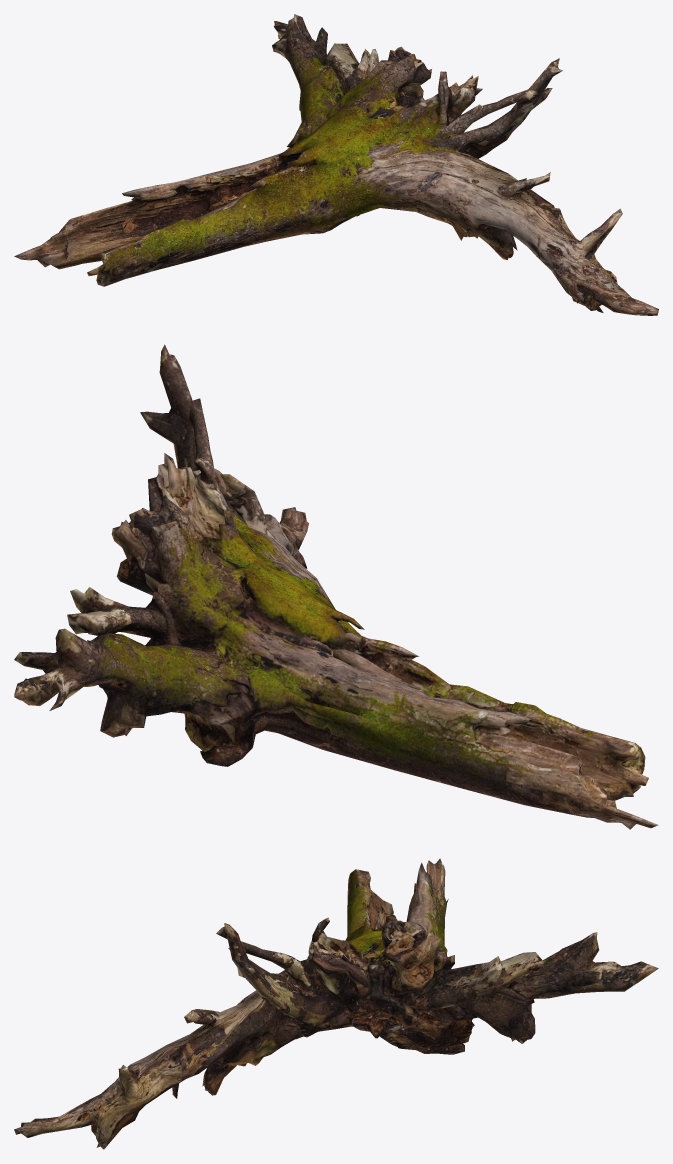
File: stump.glb
The picture shows the model from 3 angles, top to bottom: view 1: azimuth 30°, elevation 25°; view 2: azimuth 150°, elevation 25°; view 3: azimuth 270°, elevation 25°; orthographic projection. The views are drawn at different scales.
Visible parts, largest first — view 1: rkswd_LOD0_TIER3_000; view 2: rkswd_LOD0_TIER3_000; view 3: rkswd_LOD0_TIER3_000.
Part boxes in pixels (x1=…): rkswd_LOD0_TIER3_000: x1=14, y1=14, x2=658, y2=315; rkswd_LOD0_TIER3_000: x1=14, y1=344, x2=658, y2=829; rkswd_LOD0_TIER3_000: x1=14, y1=858, x2=658, y2=1149.
Bounding box in the file's own units: 2.2 × 0.95 × 2.39.
Materials: 1 (1 with a texture image).
